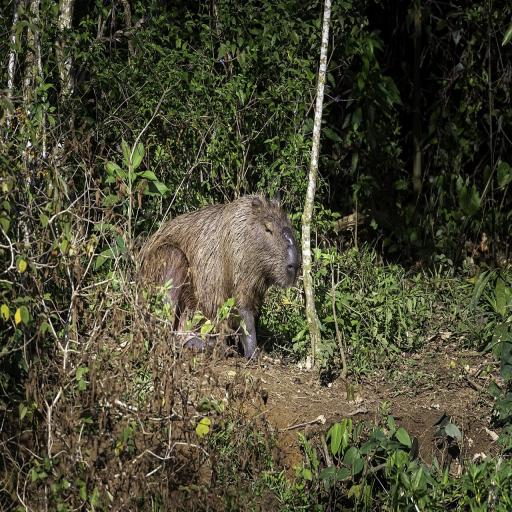capybara: (138, 195, 301, 358)
